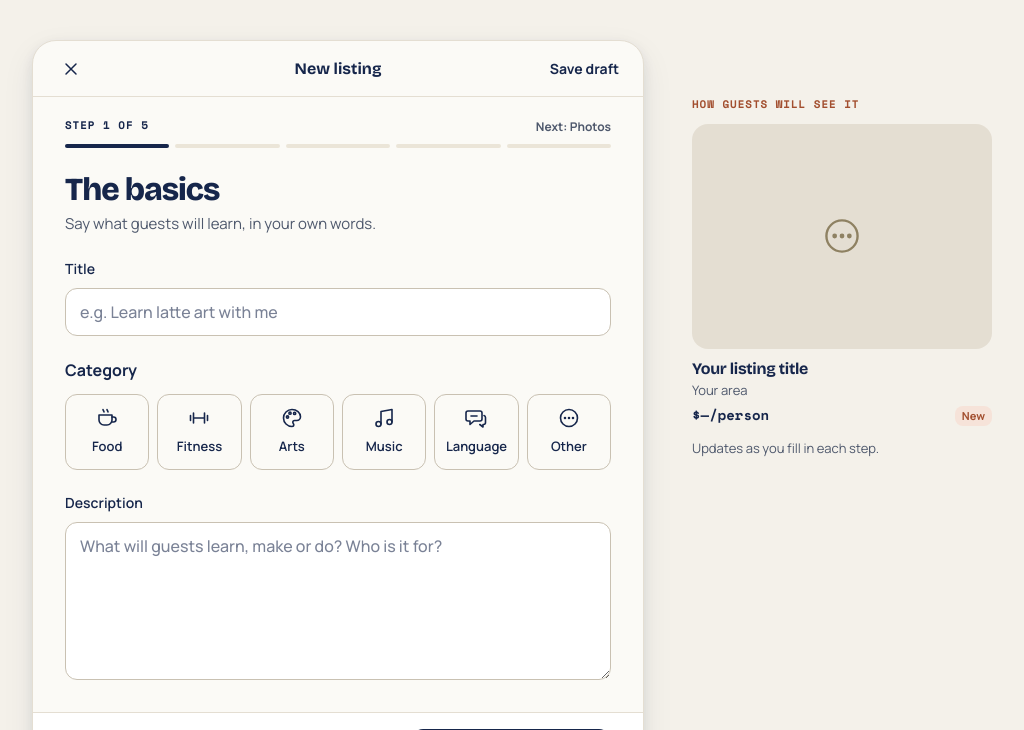
Test: CreateListing validation › asks for a description in the same warm tone
Type "Learn latte art with me" into the field labelled "Title" at (338, 312), box top-left (65, 288), bottom-right (611, 336)
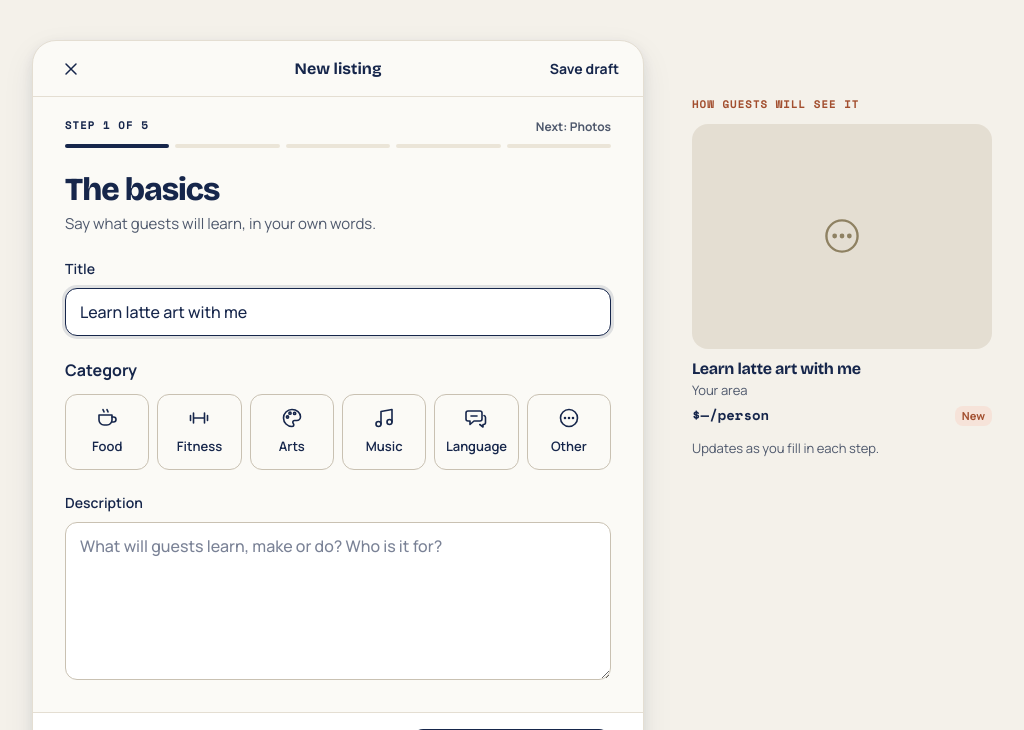
Click the radio button labelled "Food" at (107, 432), box top-left (65, 394), bottom-right (149, 470)
(page scrolled)
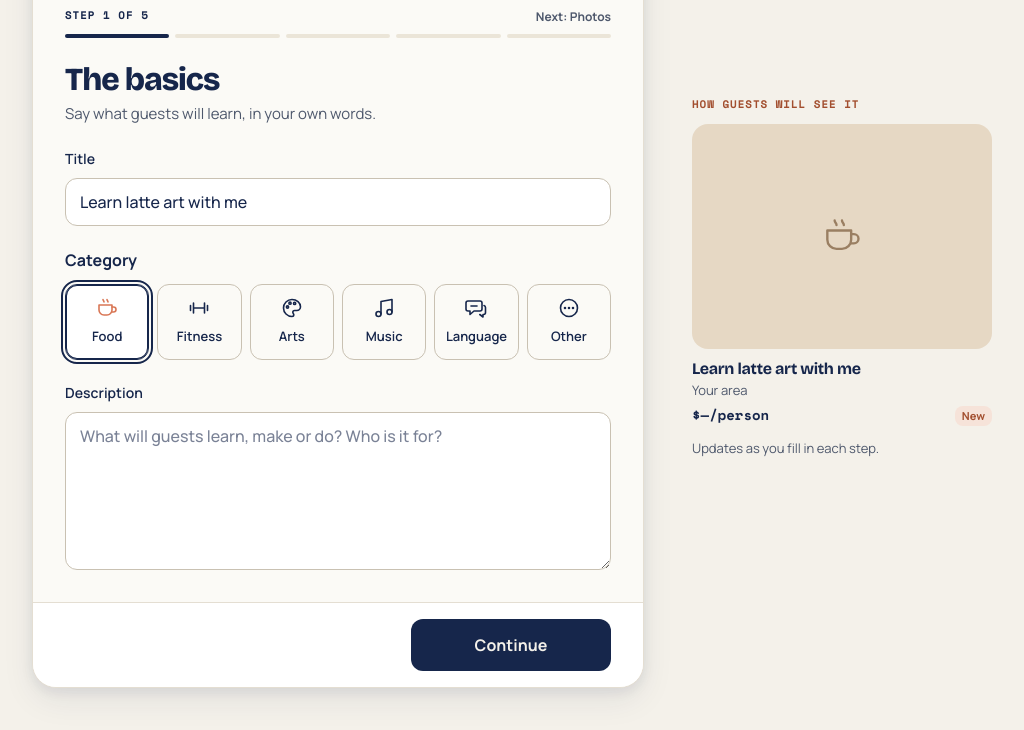
Click the button "Continue" at (511, 645), box top-left (411, 619), bottom-right (611, 671)
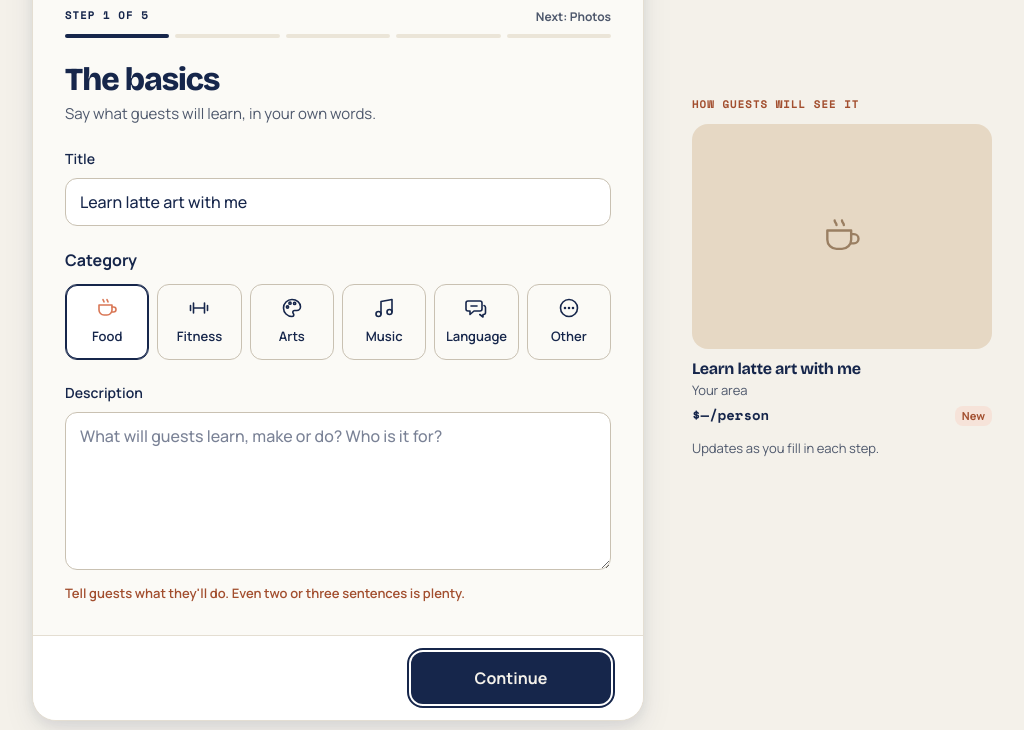
Result: the text "Tell guests what they'll do. Even two or three sentences is plenty." is shown at top-left (65, 584), bottom-right (465, 602)
